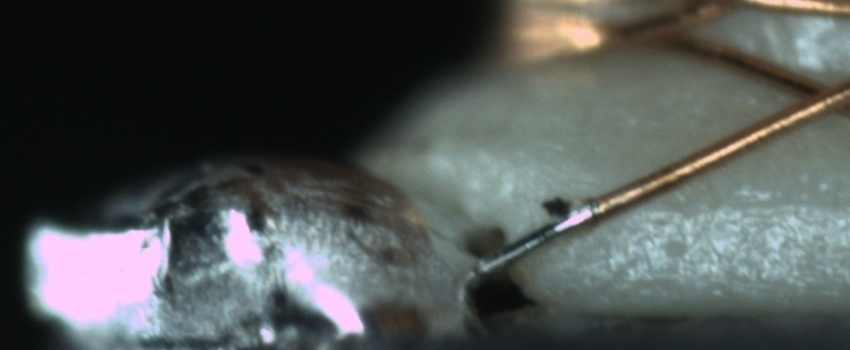CL: (774, 63, 847, 128)
DL: (631, 169, 847, 243)
TS: (481, 203, 601, 273)
TTCW: (481, 186, 639, 277)
